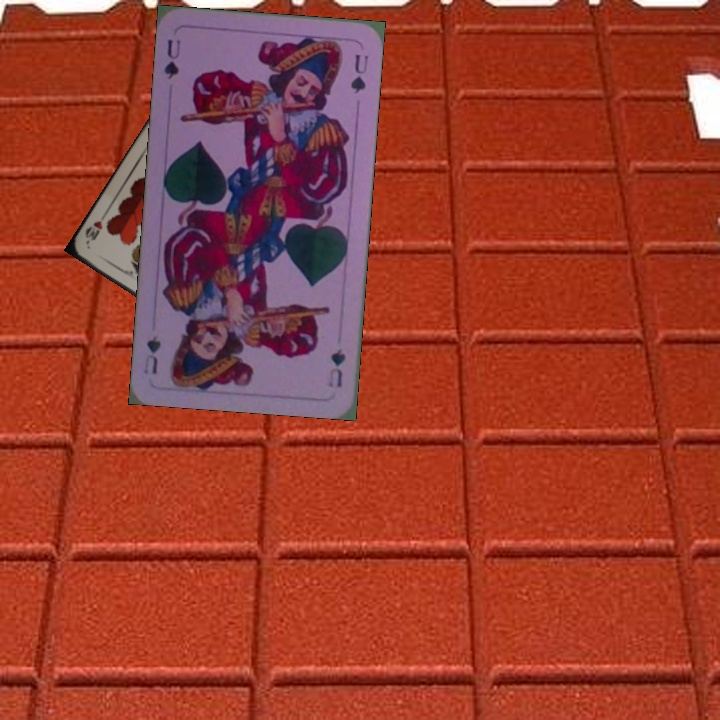GU: (160, 35, 183, 82), (324, 345, 348, 390)
